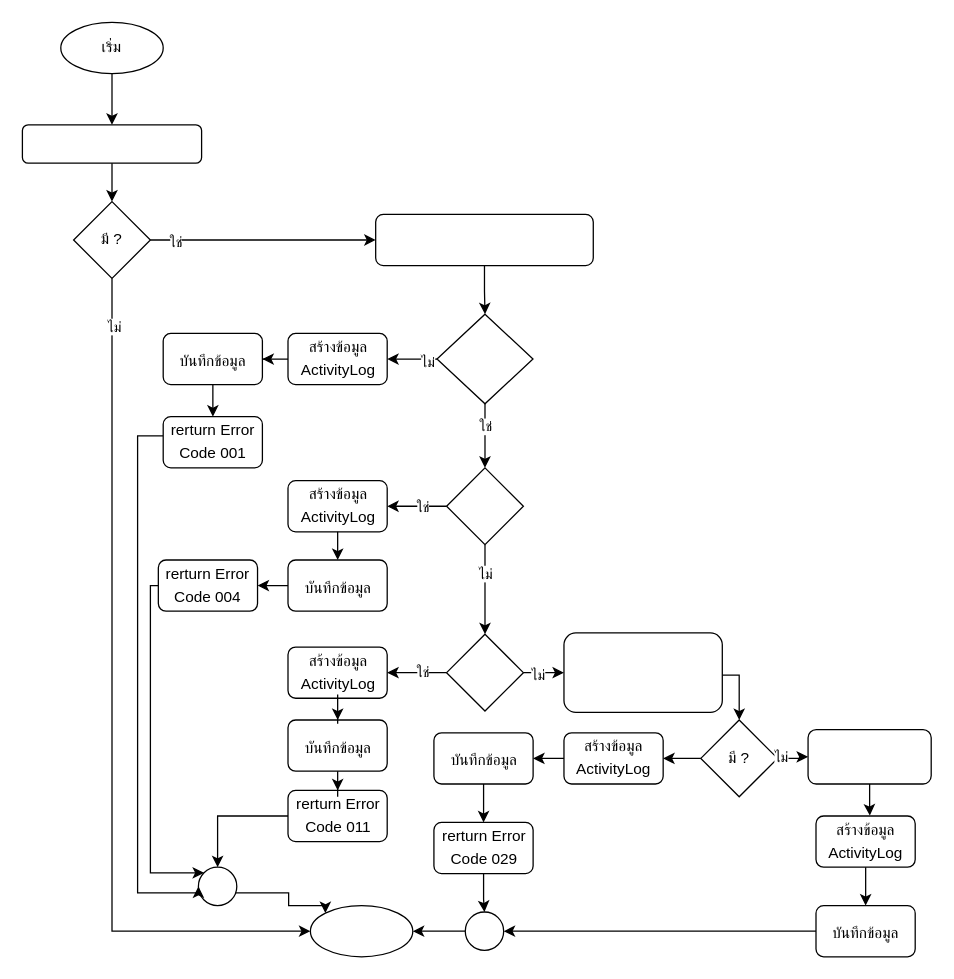
This 954x979 diagram has some shape labels left out. The centre of each missing label's shape, as x and y in pixels:
Locked = 1 ?: [484,672]
status = 1 ?: [484,506]
ตรวจสอบ Account สถานะการใช้งาน: [483,239]
ตรวจสอบว่า auditCompanyCode ซ้ำในฐานข้อมูลไหม: [642,672]
ตรวจสอบสิทธิ์การใช้งาน: [111,143]
มีใน ระบบ ?: [484,358]
สร้างข้อมูลบริษัทผู้ตรวจสอบบัญชี: [869,756]
สิ้นสุด: [361,930]
